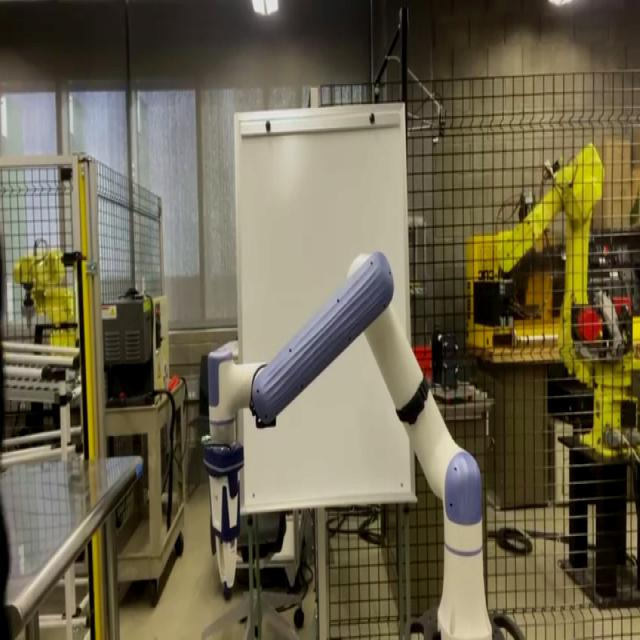robot: (202, 248, 524, 639)
